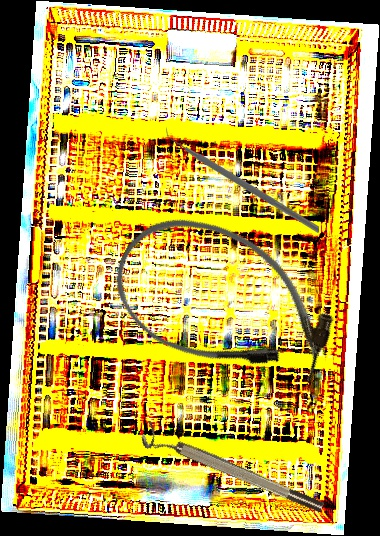Cannula: (95, 192, 354, 411)
Chopper: (166, 120, 319, 233)
Fixation Ring: (138, 420, 326, 524)
